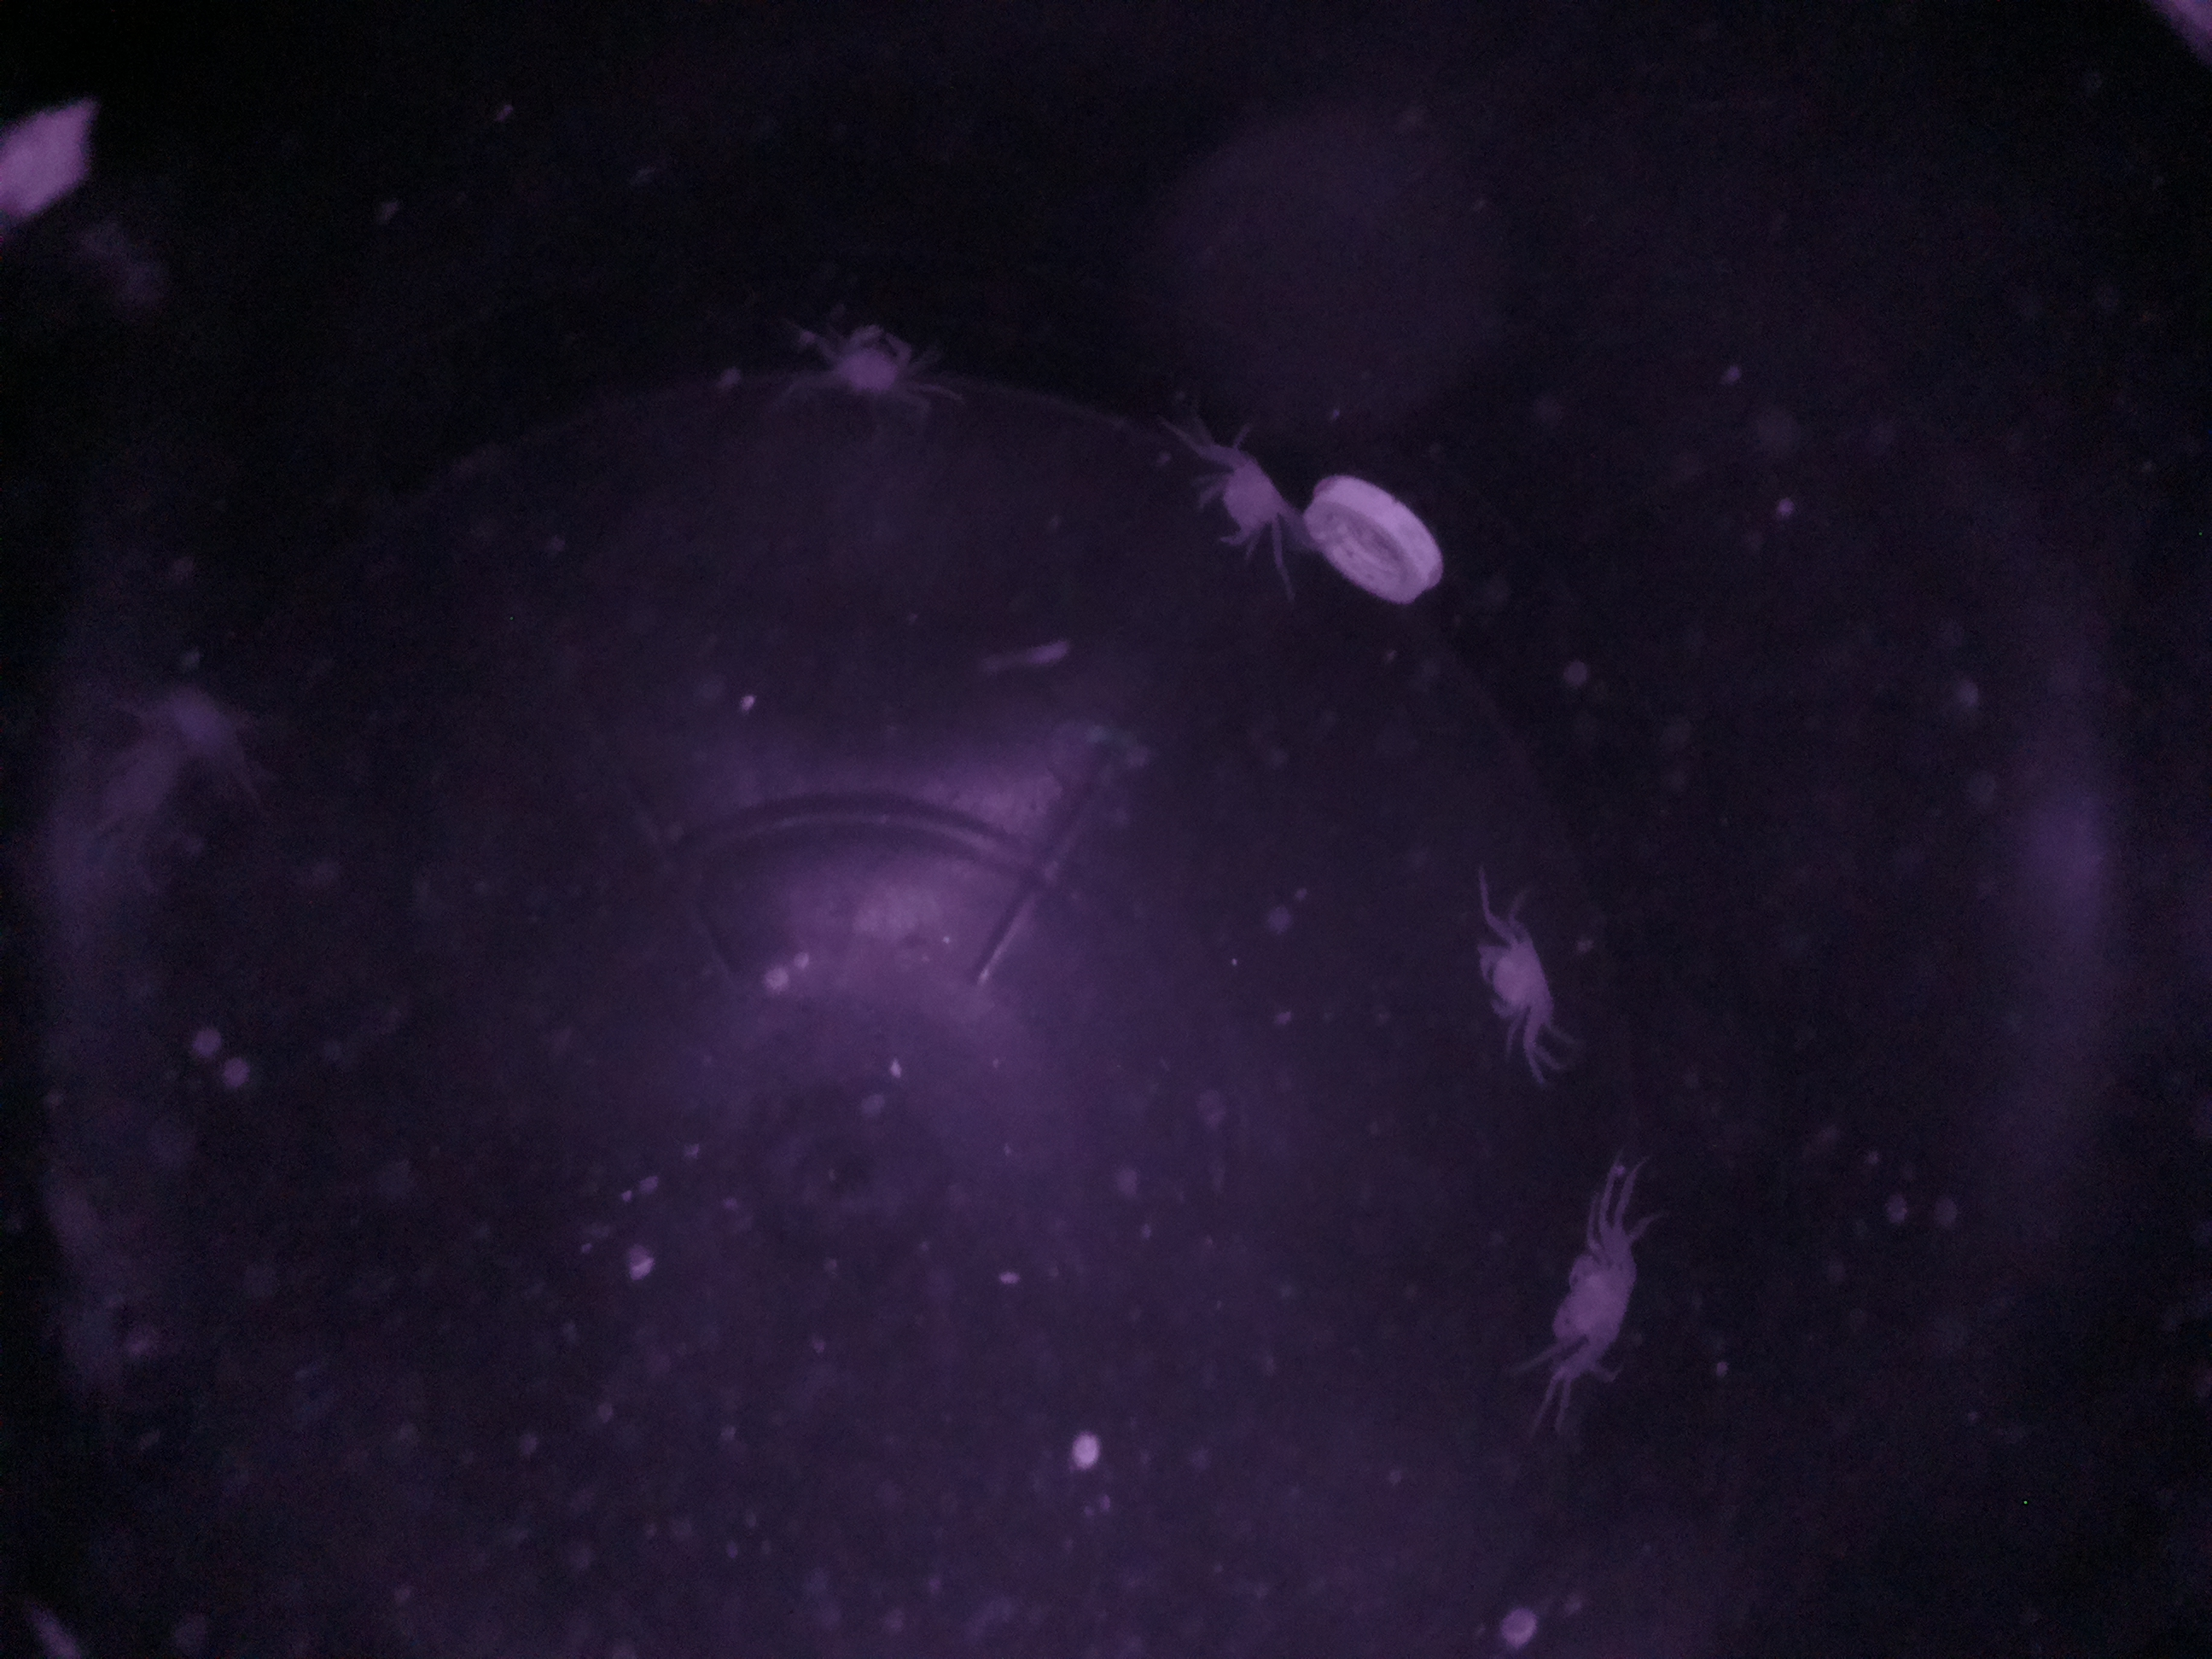Crab: (1529, 1216, 1667, 1385), (1191, 410, 1324, 580), (798, 296, 942, 429), (1463, 894, 1573, 1047)
